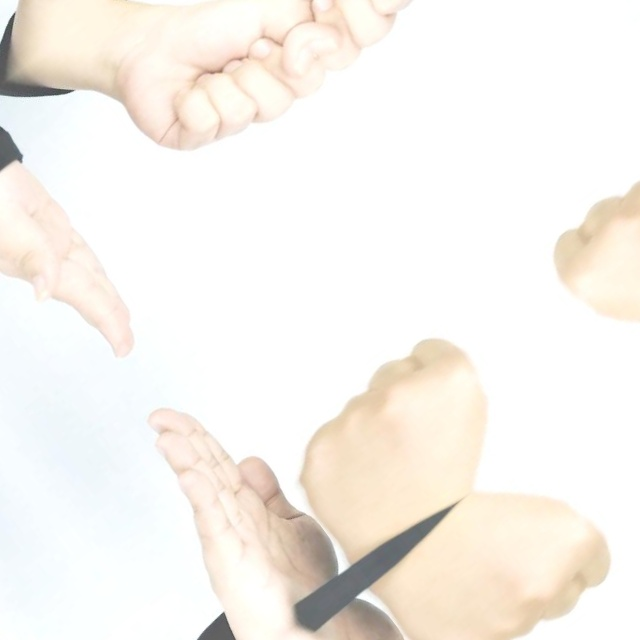Rock: (532, 117, 640, 373), (248, 0, 483, 81)
